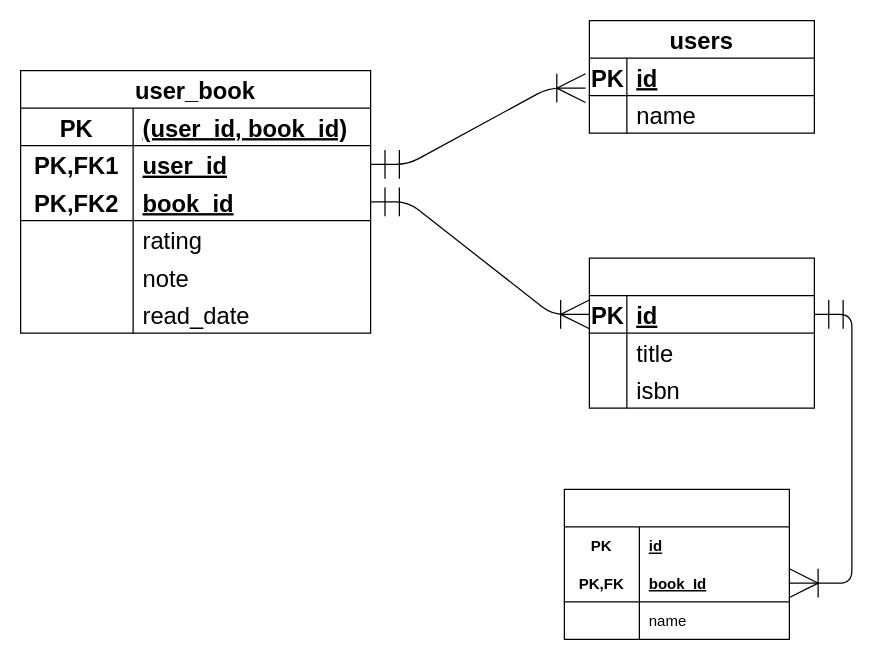
Some shapes in this 873 by 660 pixel diagram are drawn without their labels. The box of each missing label's shape, as (x1, y1, x2, y2) in pixels:
authors: (563, 488, 789, 639)
books: (588, 257, 814, 408)
